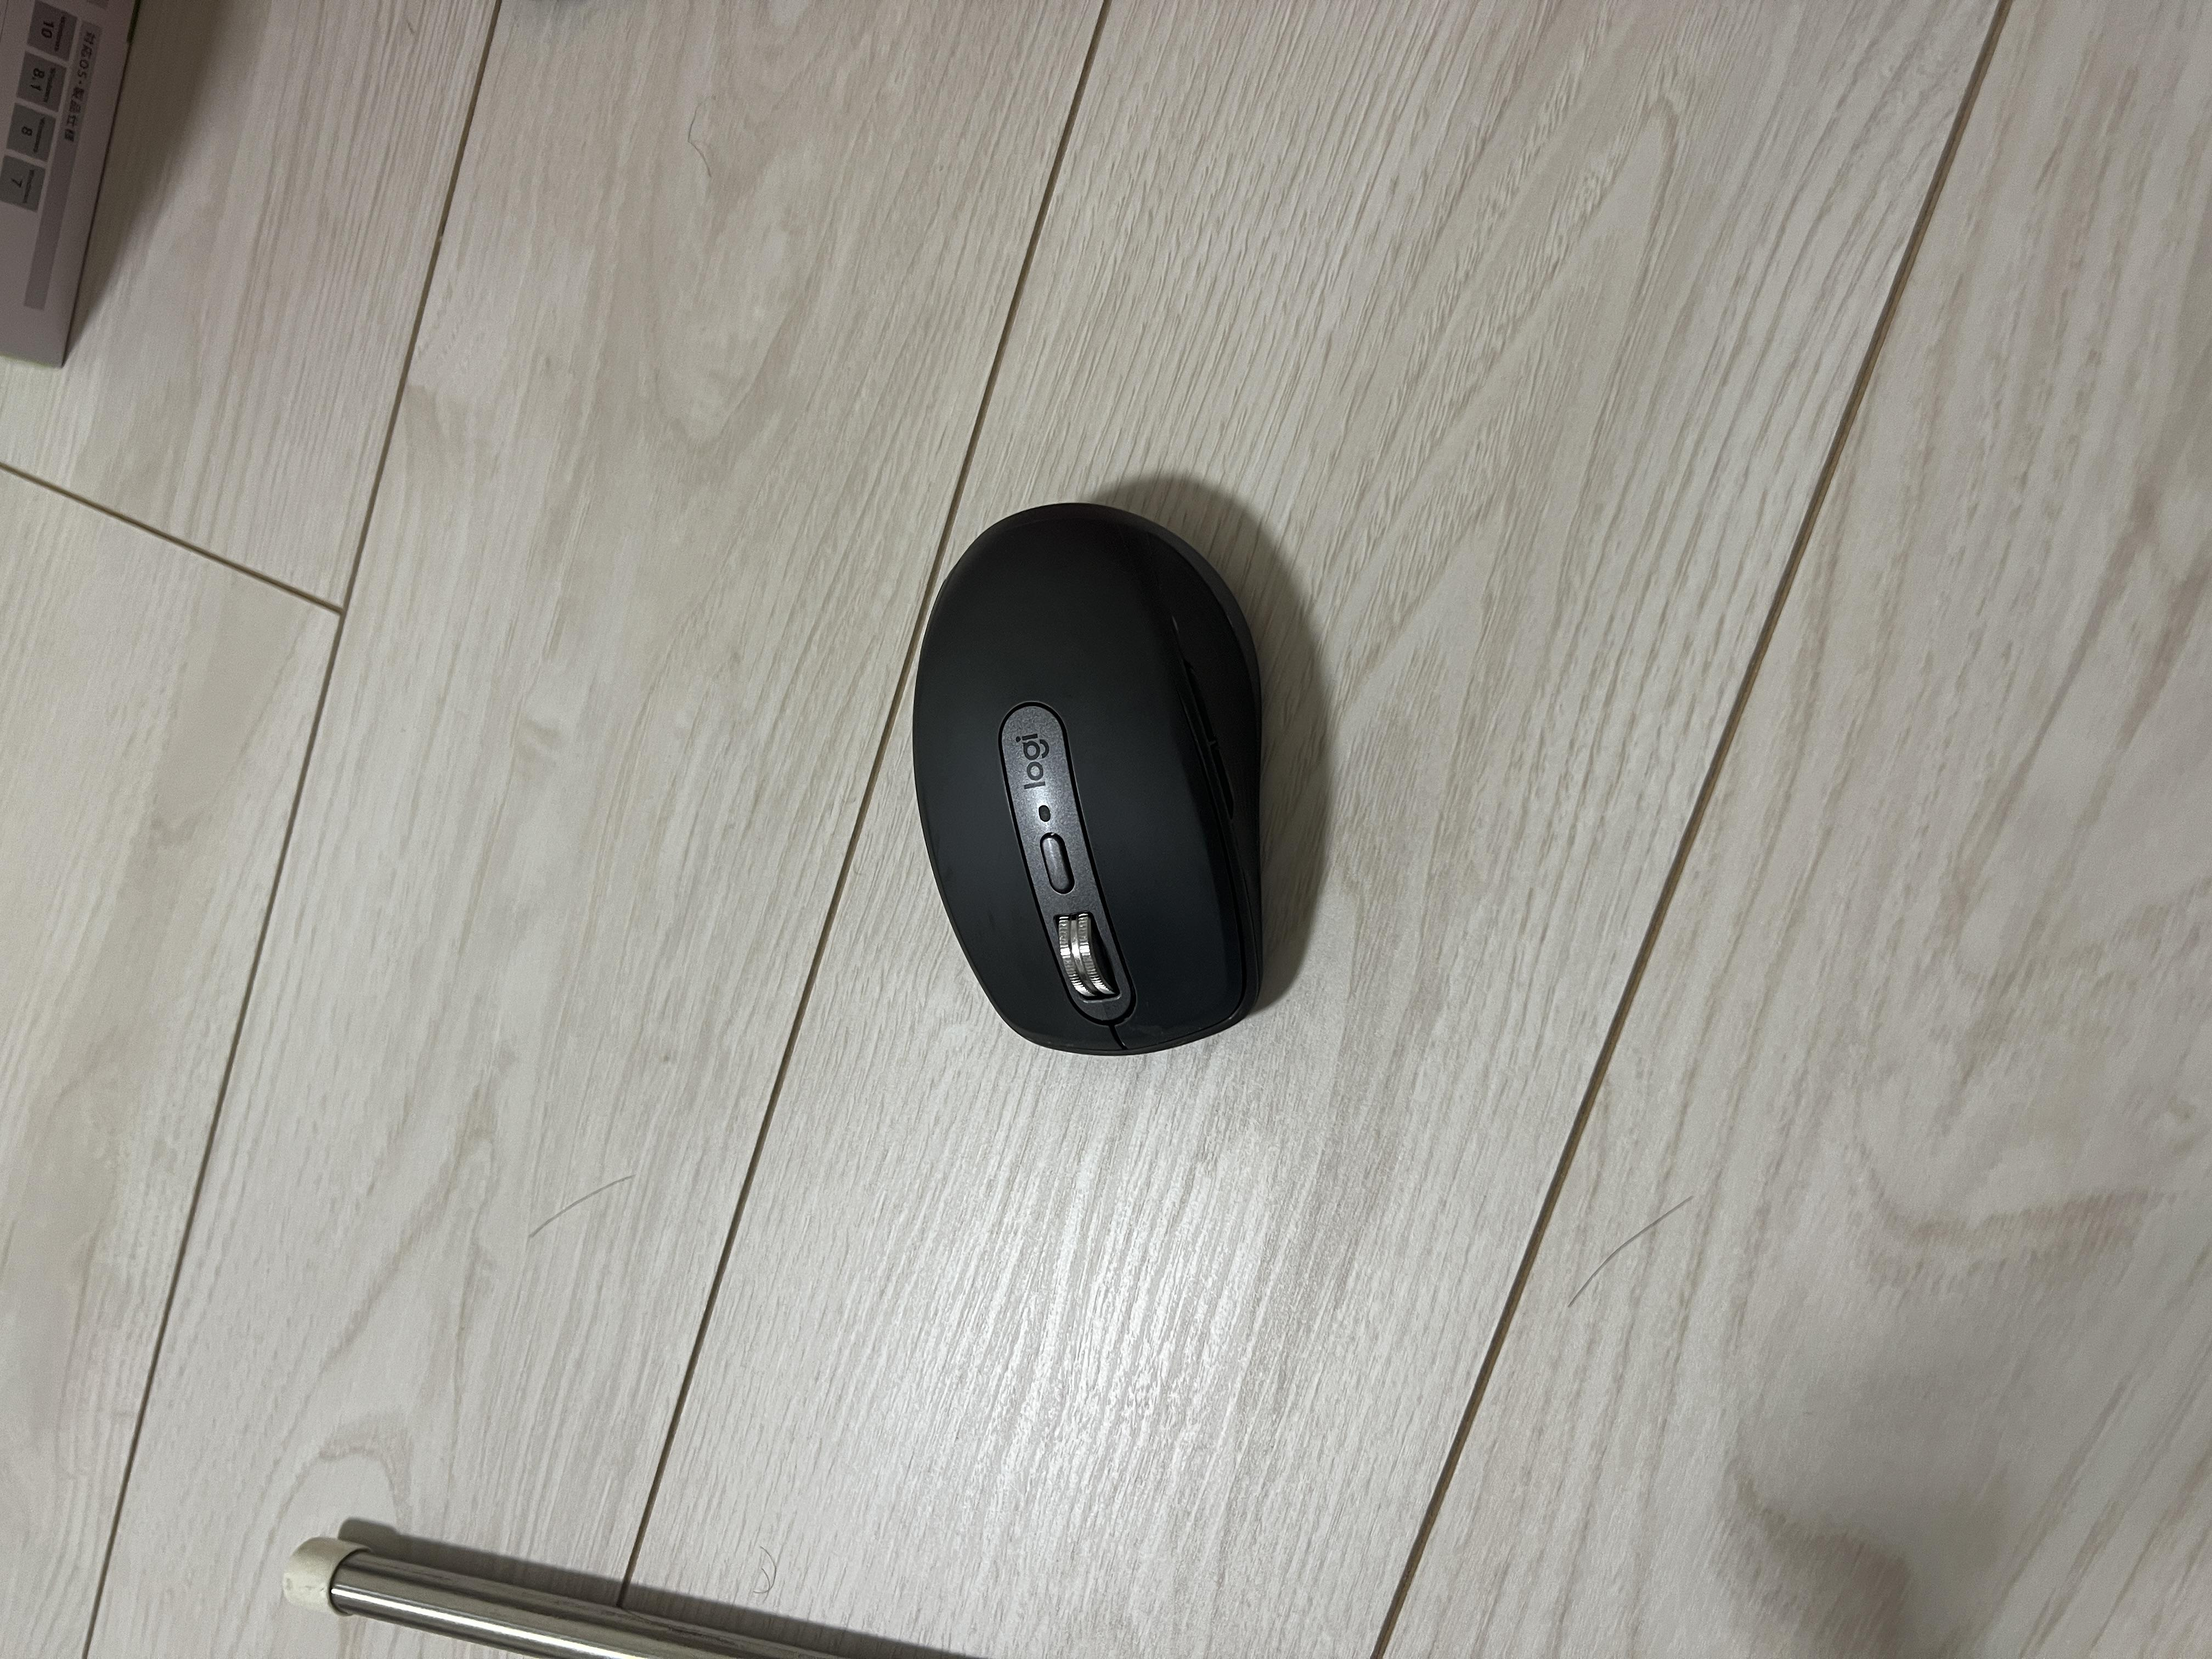mouse: (787, 674, 1573, 950)
